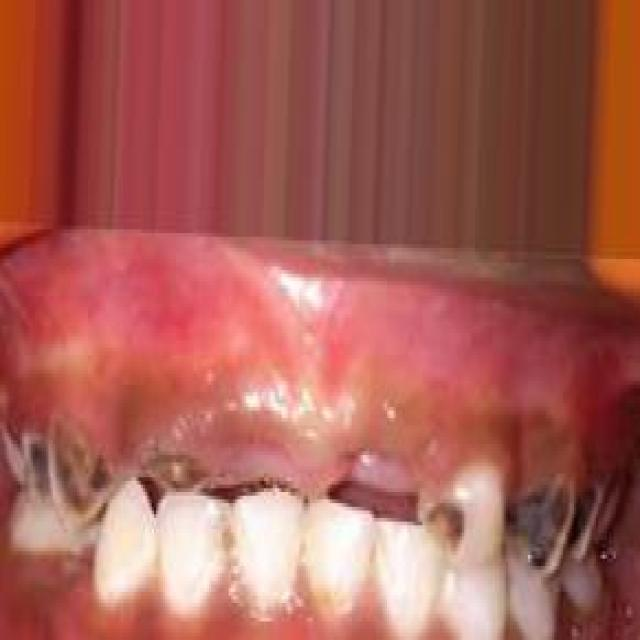caries: (46, 412, 120, 537), (413, 456, 494, 570), (505, 455, 572, 584), (142, 436, 210, 519), (568, 469, 607, 572), (12, 421, 54, 508)
